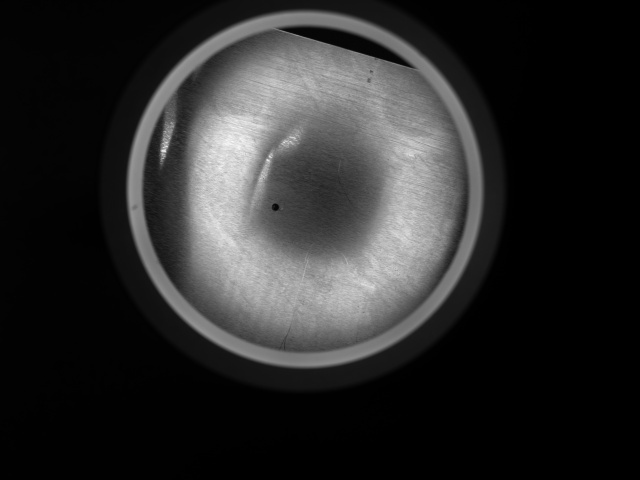zhen_kong: (268, 199, 283, 217)
